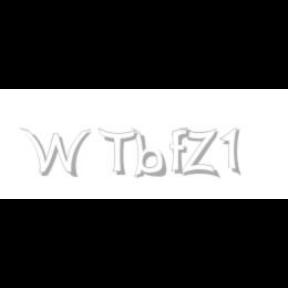1: (219, 128, 241, 176)
T: (97, 128, 137, 176)
W: (19, 128, 91, 178)
Z: (180, 128, 217, 178)
b: (132, 128, 170, 178)
f: (170, 128, 194, 174)
